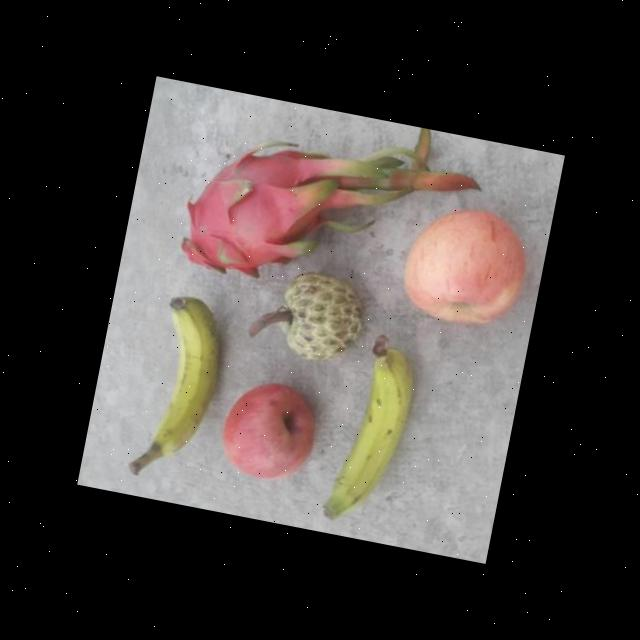Sakya fruit: (265, 265, 377, 374)
apple: (392, 194, 536, 340), (210, 369, 328, 496)
banana: (128, 290, 237, 496), (319, 332, 424, 540)
pitaya: (172, 120, 341, 293)
